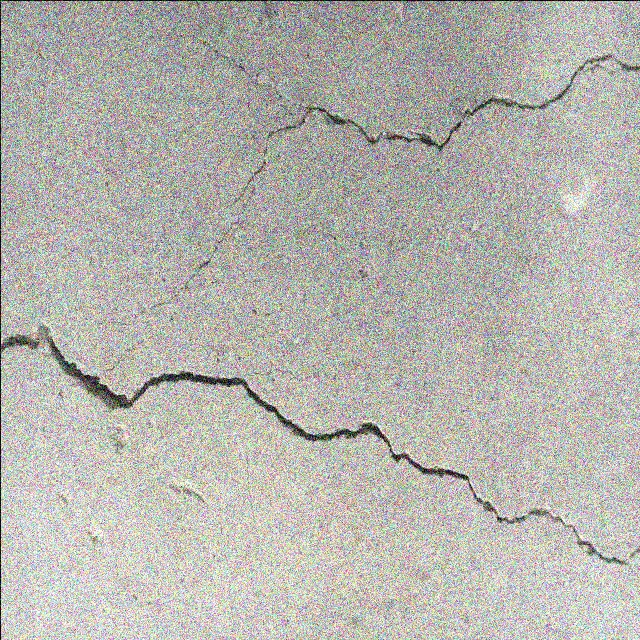SurfaceCrack: (1, 312, 639, 601)
